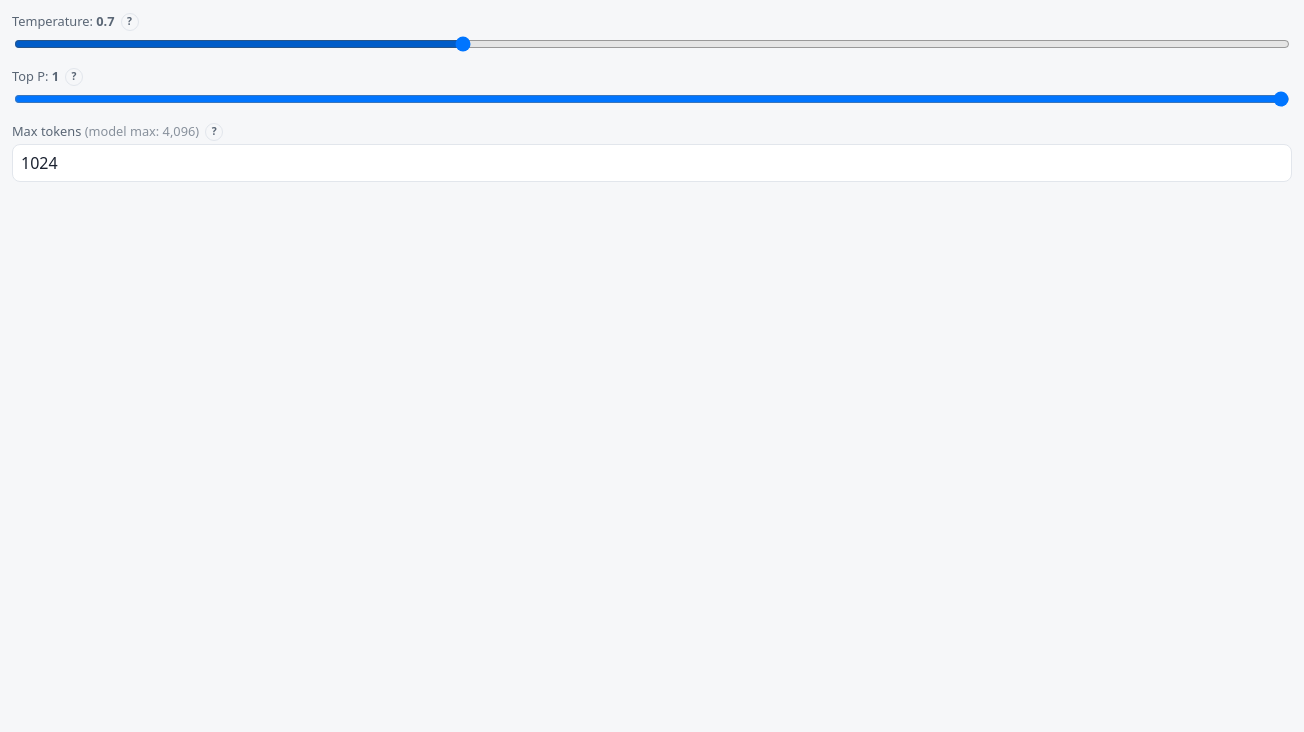
Test: ParamControls › surfaces the active model's max-output ceiling inside the Max tokens help text
Click the button named "Help: Max tokens".
click(214, 132)  # box [205,123,223,141]
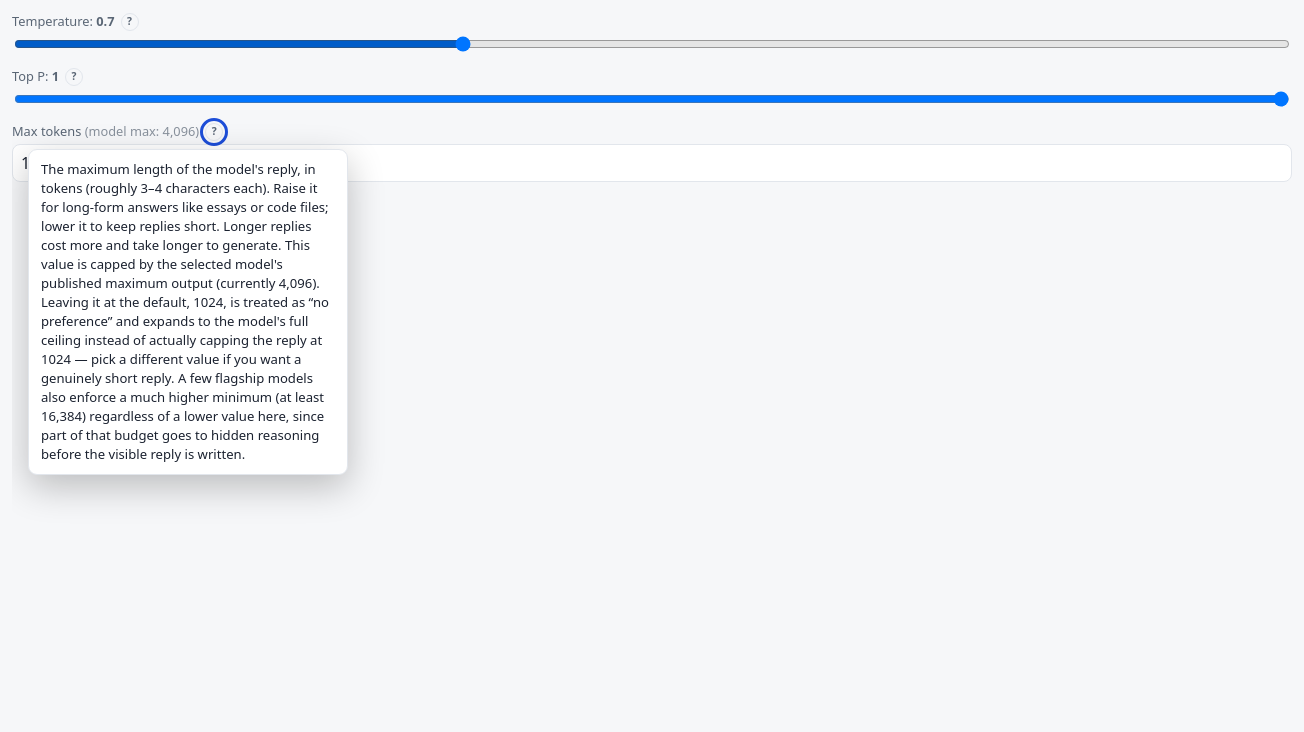
Check: the tooltip shows "currently 4,096", box [28,149,348,476]
